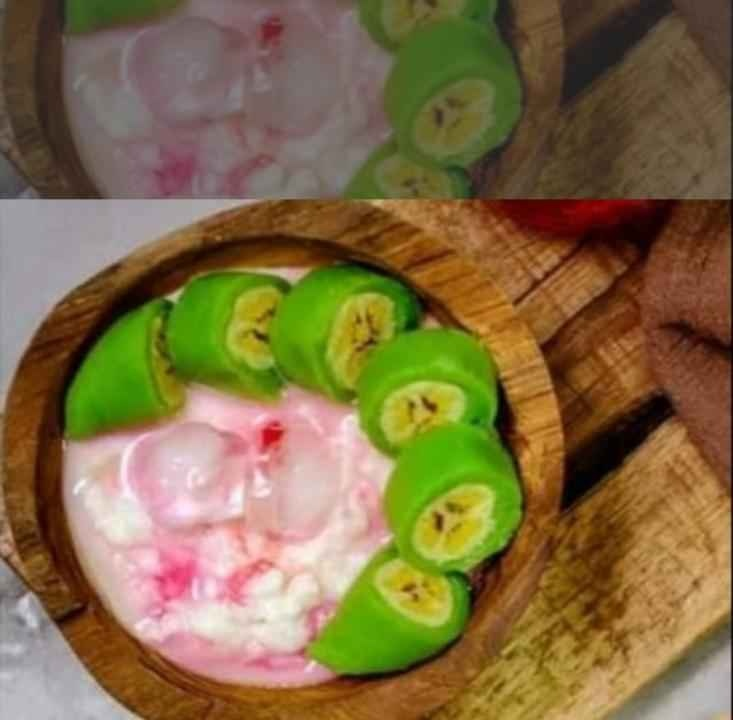pisang_ijo: (358, 421, 515, 577)
